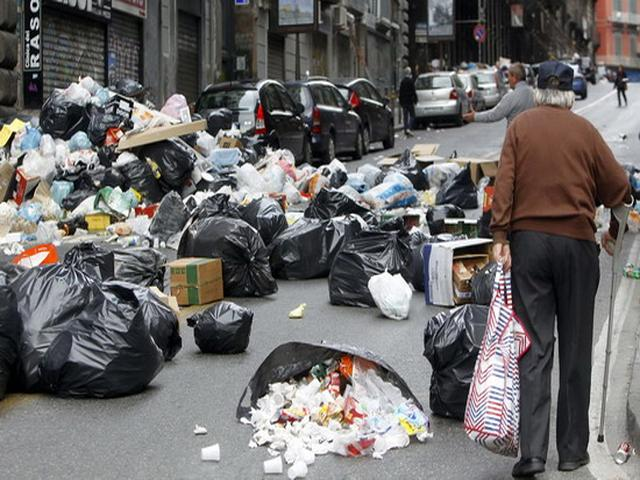garbage: (10, 129, 246, 282)
